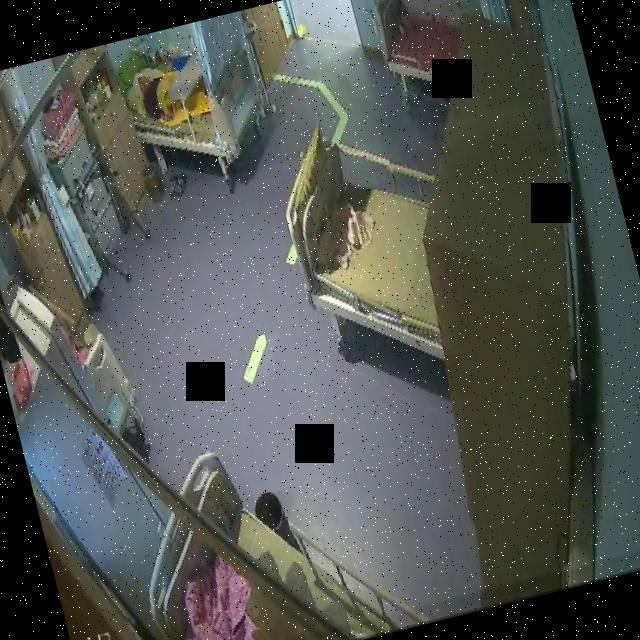bed: (115, 414, 404, 640), (272, 120, 468, 377), (120, 30, 275, 176), (365, 0, 473, 101)
lie: (130, 51, 214, 126)
patient: (132, 58, 184, 126)
walker: (58, 138, 162, 292)
